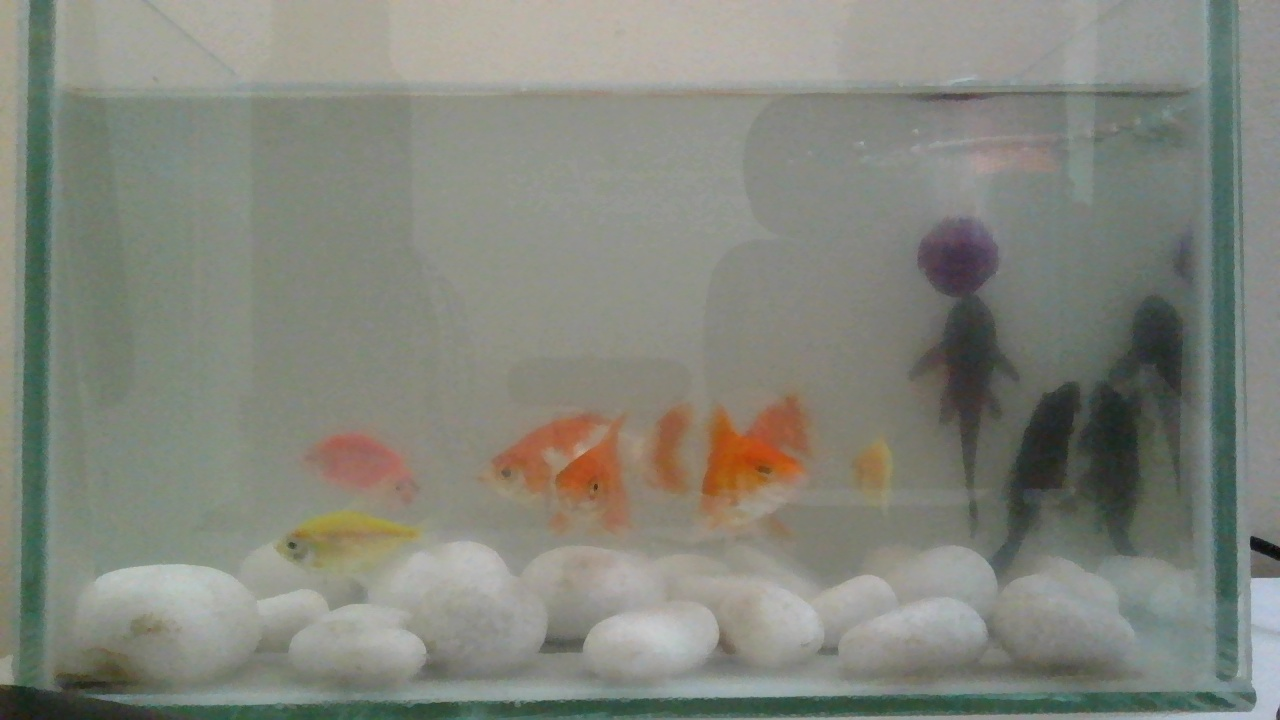fish: (482, 404, 630, 530), (274, 501, 429, 608), (296, 424, 420, 515), (849, 428, 898, 497)
